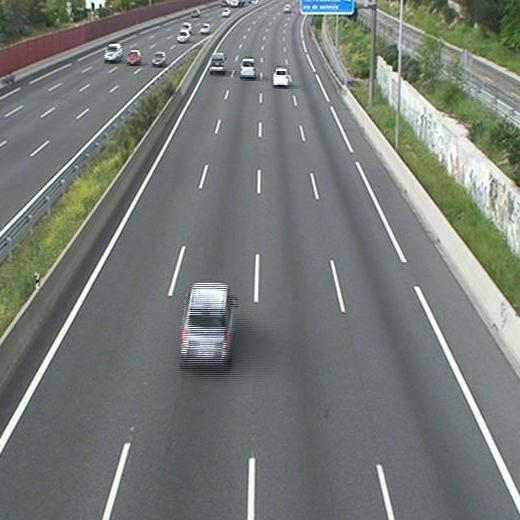car: (181, 285, 234, 358), (210, 53, 227, 71), (273, 69, 290, 85), (240, 60, 255, 77), (283, 4, 292, 12)
